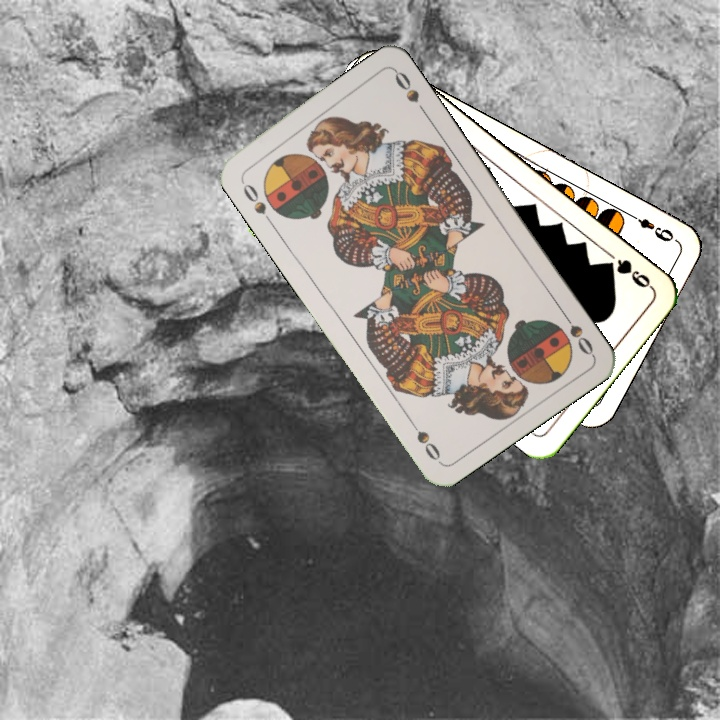E9: (625, 209, 677, 245)
G9: (599, 255, 655, 291)
SO: (556, 306, 596, 358), (236, 174, 270, 218)
